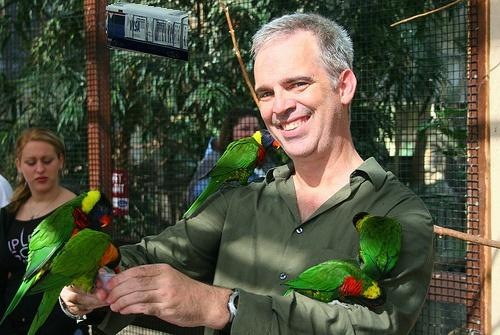tampered: (107, 2, 188, 61)
